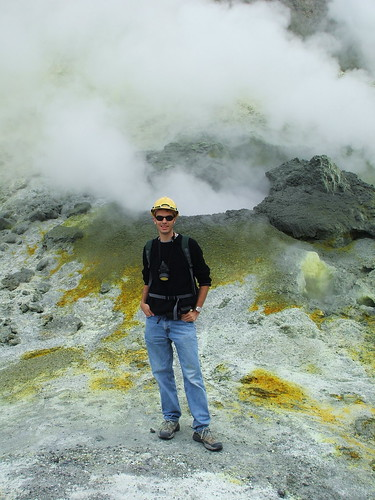person hardhat: (146, 194, 234, 464)
